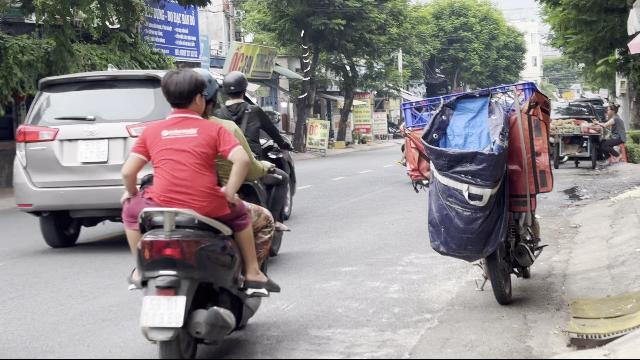helmet: (192, 66, 220, 117), (221, 71, 249, 101)
licenseplate: (141, 296, 185, 330)
motorcyclist: (114, 66, 288, 356)
nohelmet: (159, 68, 209, 116)
